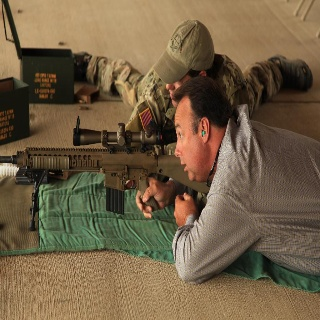rifle: (1, 116, 211, 217)
